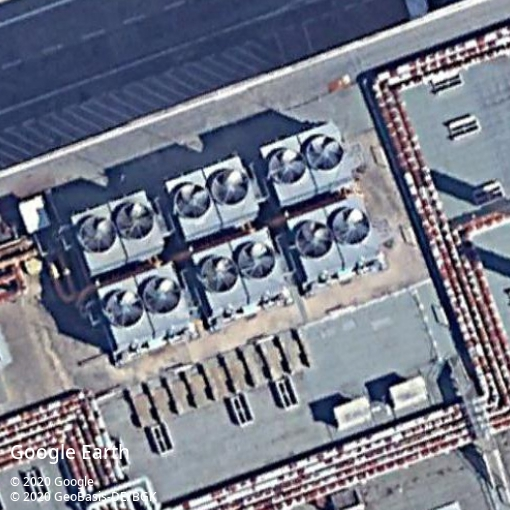Vent: (294, 220, 335, 261), (331, 207, 372, 247), (78, 215, 118, 255), (115, 201, 155, 241), (105, 289, 145, 329), (267, 147, 308, 186), (142, 276, 183, 315), (237, 241, 278, 280), (172, 182, 212, 221), (211, 168, 251, 207), (200, 254, 239, 294), (305, 134, 344, 172)
